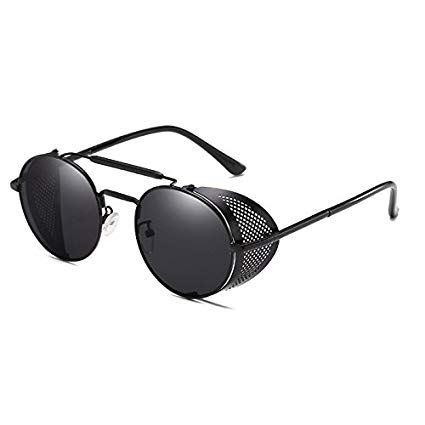sunglasses: (12, 150, 323, 302)
